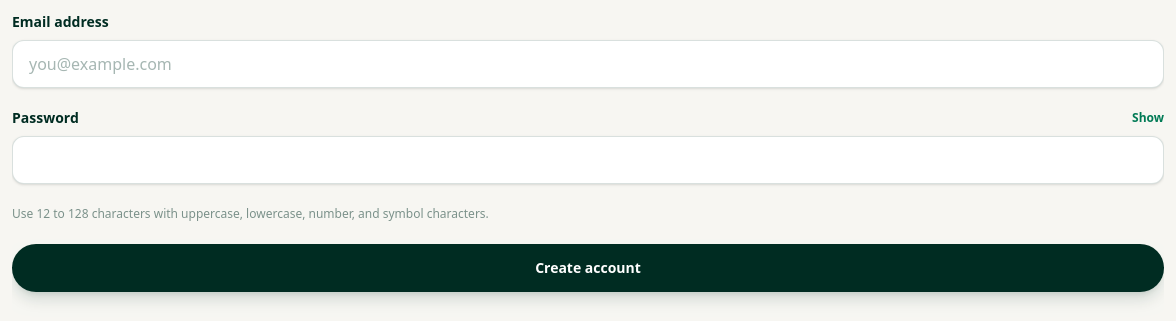
Test case: frontend authentication interface › registers a valid account through the same-origin gateway
Type "New.User@example.com" into the field labelled "Email address". click: (588, 64)
box: [12,40,1164,88]
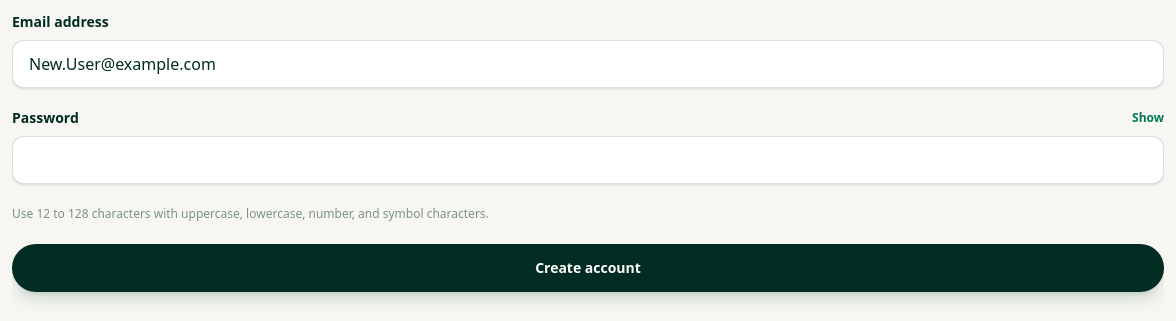
Type "Secure-Test-Password-42!" into the password field labelled "Password". click: (588, 160)
box: [12,136,1164,184]
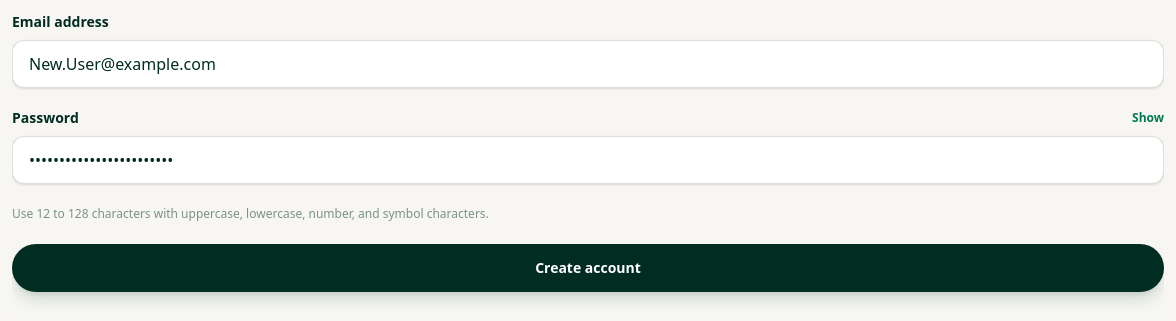
Click the button "Create account". click: (588, 268)
box: [12,244,1164,292]
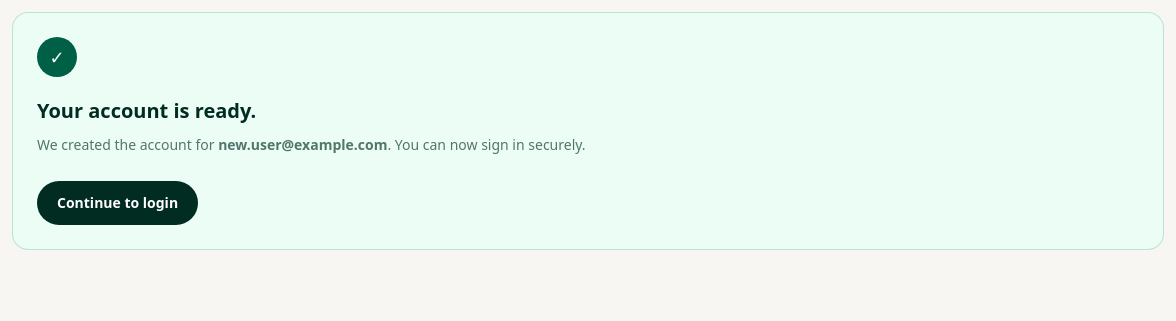
Expected: the heading "Your account is ready." is shown, [37,97,256,124]
